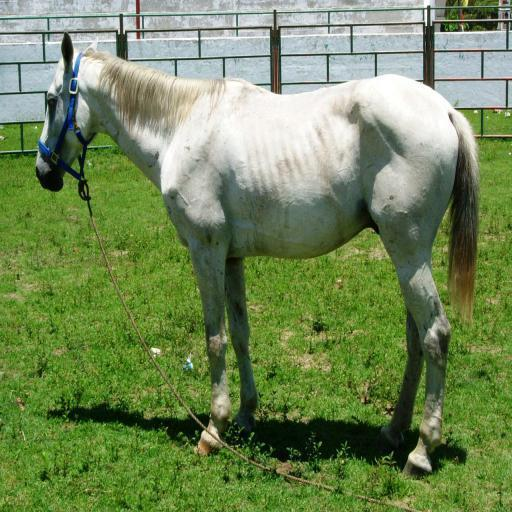horse: (33, 28, 475, 480)
